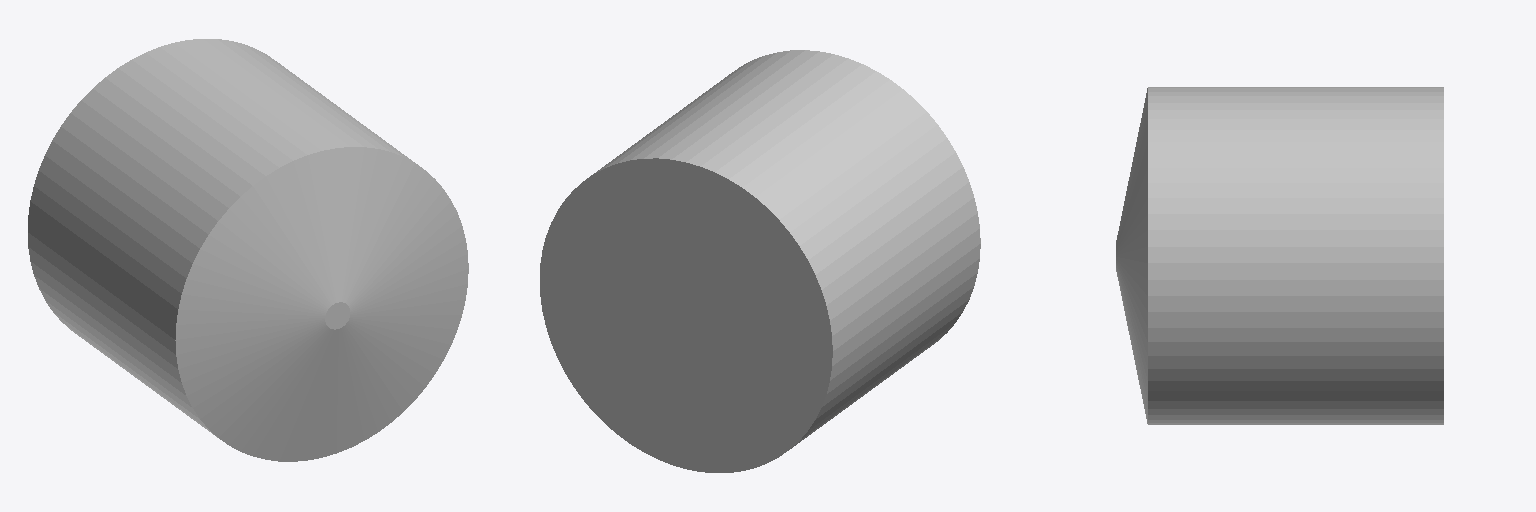
Rendered from Candle2b.obj.
The picture shows the model from 3 angles: view 1: azimuth 30°, elevation 25°; view 2: azimuth 150°, elevation 25°; view 3: azimuth 270°, elevation 25°; orthographic projection.
Parts seen in each view (by area): view 1: Candle2b_Cylinder.014; view 2: Candle2b_Cylinder.014; view 3: Candle2b_Cylinder.014.
Boxes of the visible parts, x1=… form: Candle2b_Cylinder.014: x1=28, y1=39, x2=468, y2=461; Candle2b_Cylinder.014: x1=540, y1=50, x2=980, y2=472; Candle2b_Cylinder.014: x1=1116, y1=87, x2=1443, y2=424.
Bounding box in the file's own units: 0.2018 × 0.2018 × 0.1951.